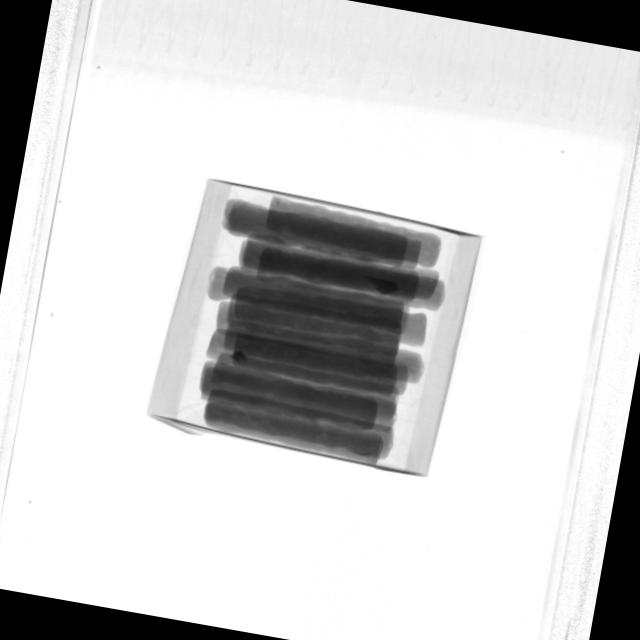ym: (361, 273, 401, 299), (229, 349, 250, 365), (353, 450, 374, 459), (272, 196, 281, 207)
